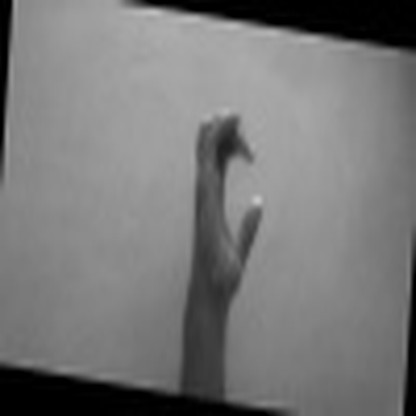c: (180, 101, 266, 304)
